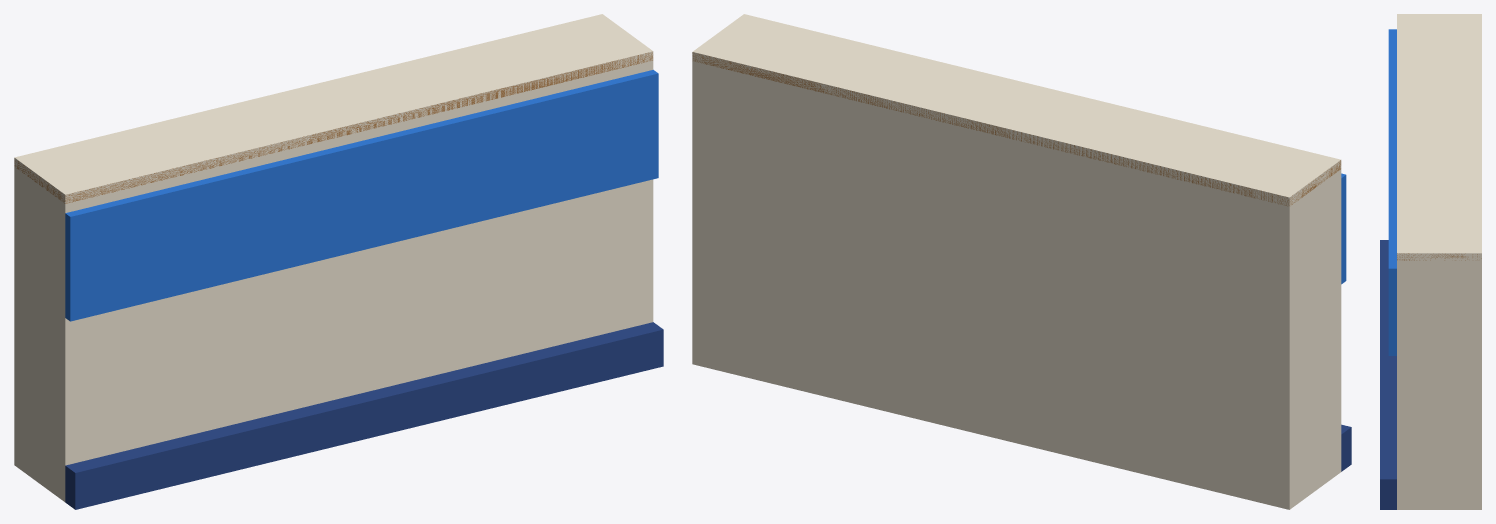
Rendered from wall.glb.
The picture shows the model from 3 angles, left to right: view 1: azimuth 30°, elevation 25°; view 2: azimuth 150°, elevation 25°; view 3: azimuth 270°, elevation 25°; orthographic projection. The views are drawn at different scales.
Visible parts, largest first — view 1: wall; view 2: wall; view 3: wall.
Boxes of the visible parts, box(x1,y1,x2,y2) form: wall: box(14, 14, 663, 509); wall: box(692, 14, 1351, 509); wall: box(1380, 14, 1481, 509).
Size of the model in its own units: 1 by 0.5 by 0.18.
1 material, 1 textured.
